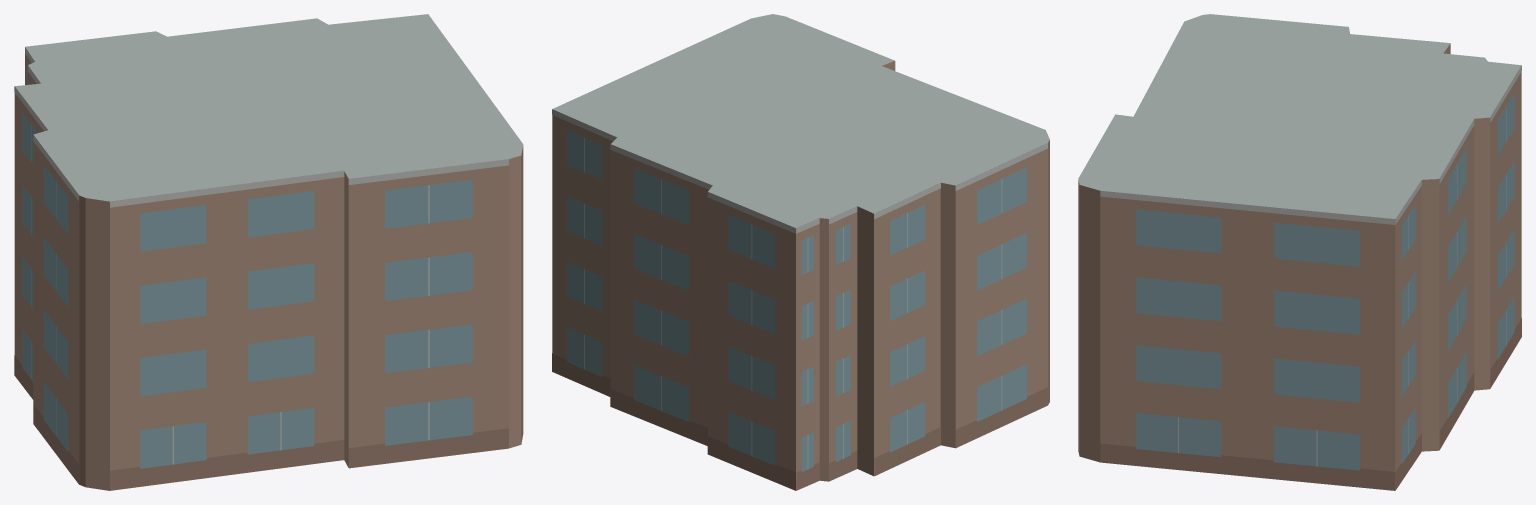
Rendered from survey-upis-32986968.glb.
3 renders of one model, left to right at view 1: azimuth 30°, elevation 25°; view 2: azimuth 150°, elevation 25°; view 3: azimuth 270°, elevation 25°, orthographic. The views are drawn at different scales.
Visible parts, largest first — view 1: survey-upis-32986968.tmp; view 2: survey-upis-32986968.tmp; view 3: survey-upis-32986968.tmp.
Part boxes in pixels (x1=…): survey-upis-32986968.tmp: x1=14, y1=14, x2=523, y2=490; survey-upis-32986968.tmp: x1=552, y1=14, x2=1049, y2=490; survey-upis-32986968.tmp: x1=1078, y1=14, x2=1521, y2=490.
Bounding box in the file's own units: 18.3 × 11.3 × 16.73.
